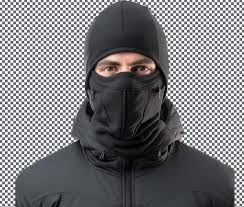terrorist: (44, 1, 216, 169)
